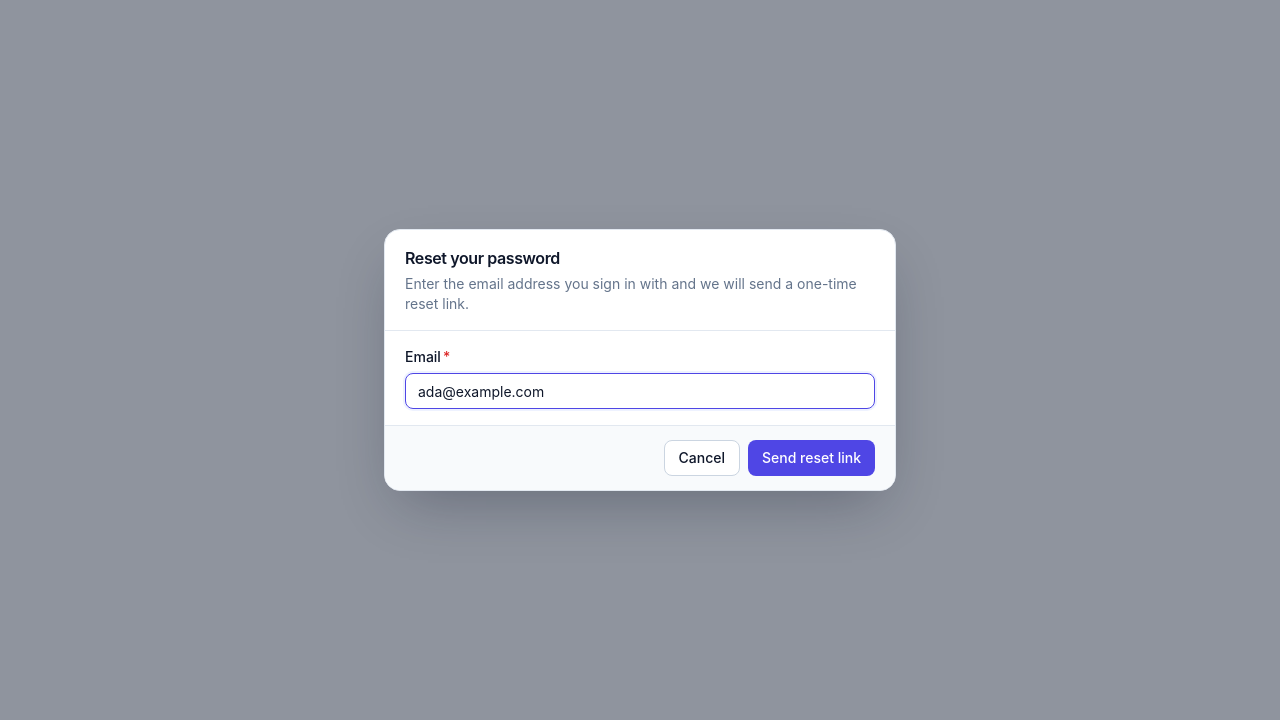
ForgotPasswordDialog › requests a reset link and shows the anti-enumeration confirmation
The width and height of the screenshot is (1280, 720).
Click the button "Send reset link".
click(812, 458)  # box [748,440,875,476]
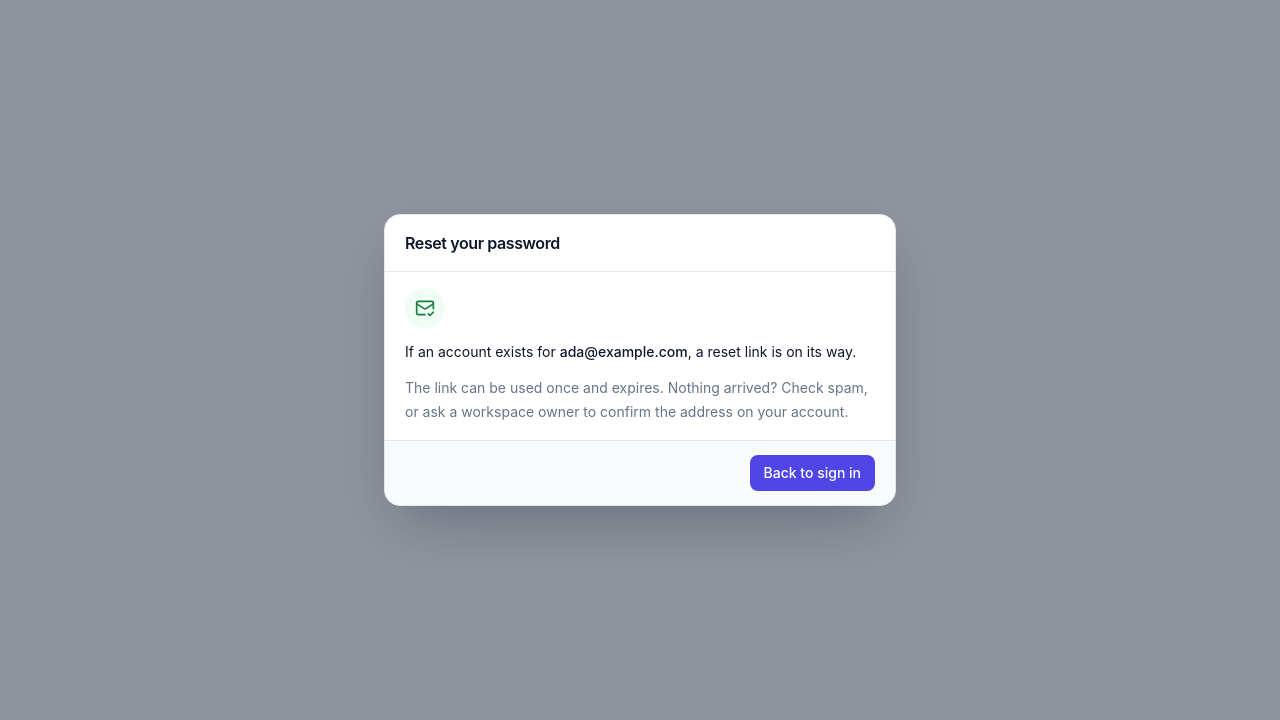
Now the text "If an account exists for" is shown, box [405,343,560,360]
Now the text labelled "email" is gone
